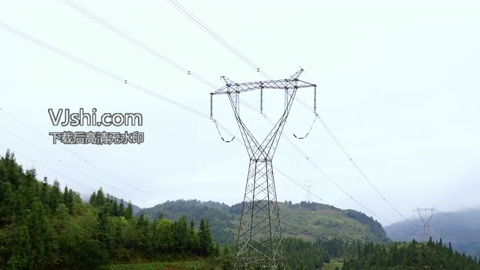tower_body: (204, 63, 320, 270)
tower_foot: (235, 223, 288, 270)
tower_head: (207, 66, 317, 164)
